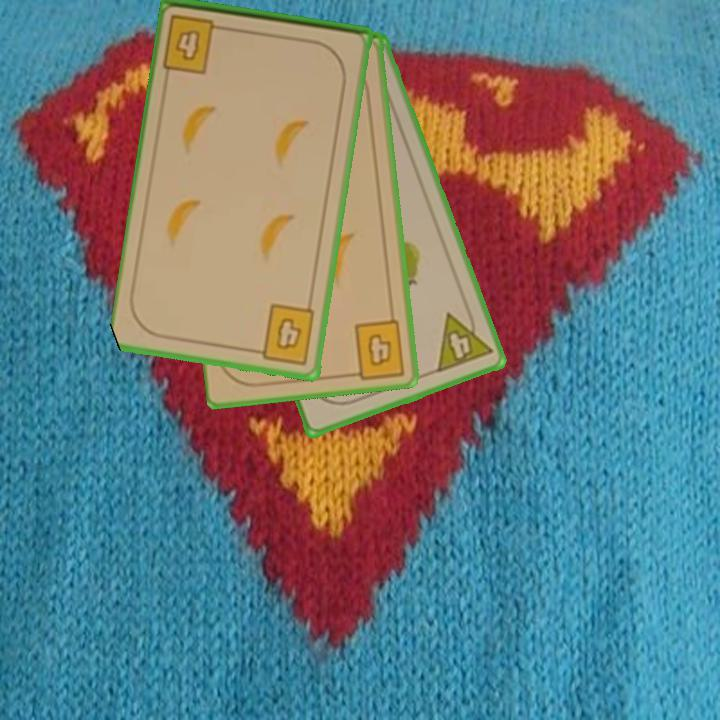4b: (160, 10, 232, 77), (249, 300, 318, 367), (346, 315, 408, 381)
4p: (433, 302, 495, 376)
